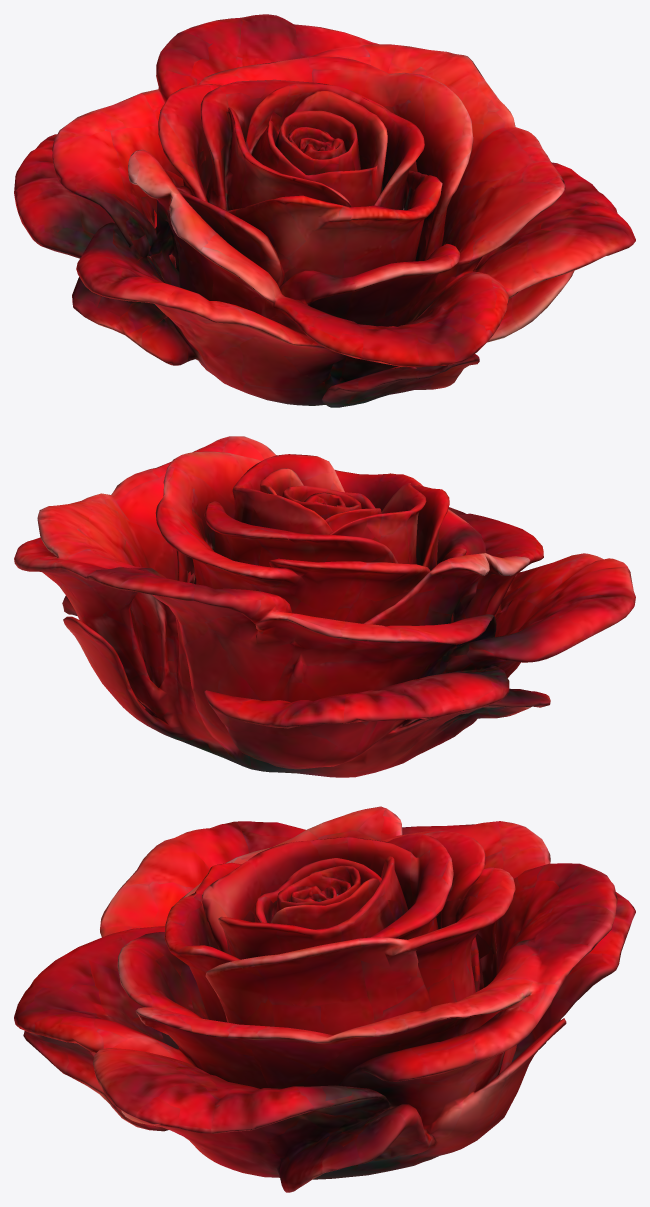
The picture shows the model from 3 angles, top to bottom: view 1: azimuth 30°, elevation 25°; view 2: azimuth 150°, elevation 25°; view 3: azimuth 270°, elevation 25°; orthographic projection. The views are drawn at different scales.
Bounding box in the file's own units: 1.9 × 0.9456 × 1.85.
1 material, 1 textured.
